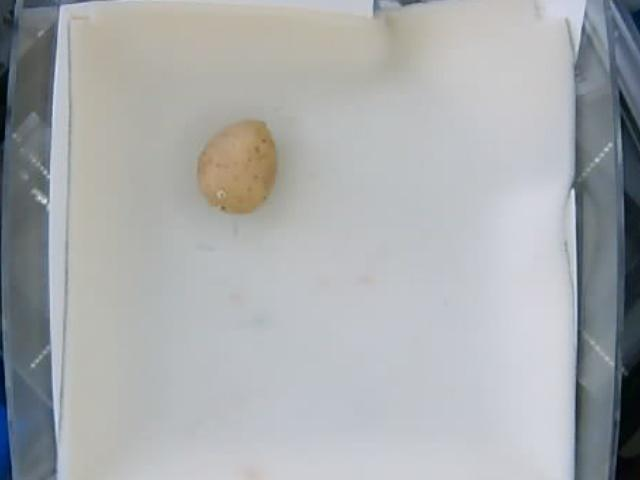Potato: (198, 117, 278, 214)
